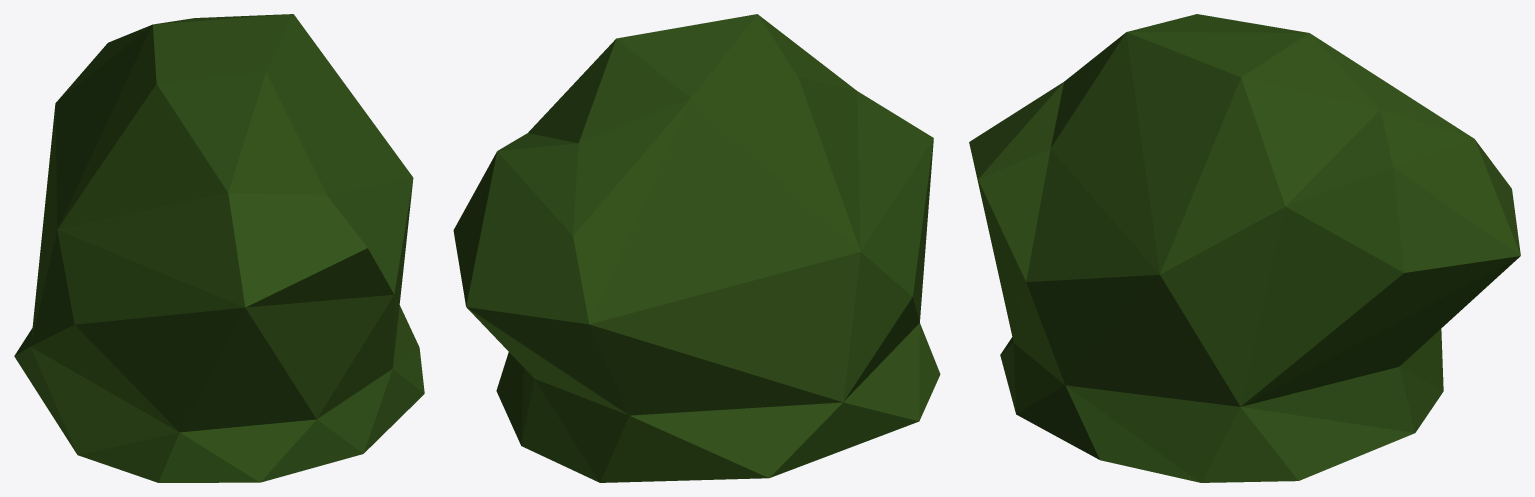
Rendered from Bush.fbx.
3 views of the same model, side by side, from view 1: azimuth 30°, elevation 25°; view 2: azimuth 150°, elevation 25°; view 3: azimuth 270°, elevation 25° (orthographic). The views are drawn at different scales.
Parts seen in each view (by area): view 1: Bush; view 2: Bush; view 3: Bush.
Part boxes in pixels (<box>): Bush: <box>14,14,424,482</box>; Bush: <box>453,14,940,482</box>; Bush: <box>969,14,1520,482</box>.
Size of the model in its own units: 0.5322 by 0.4943 by 0.6829.
